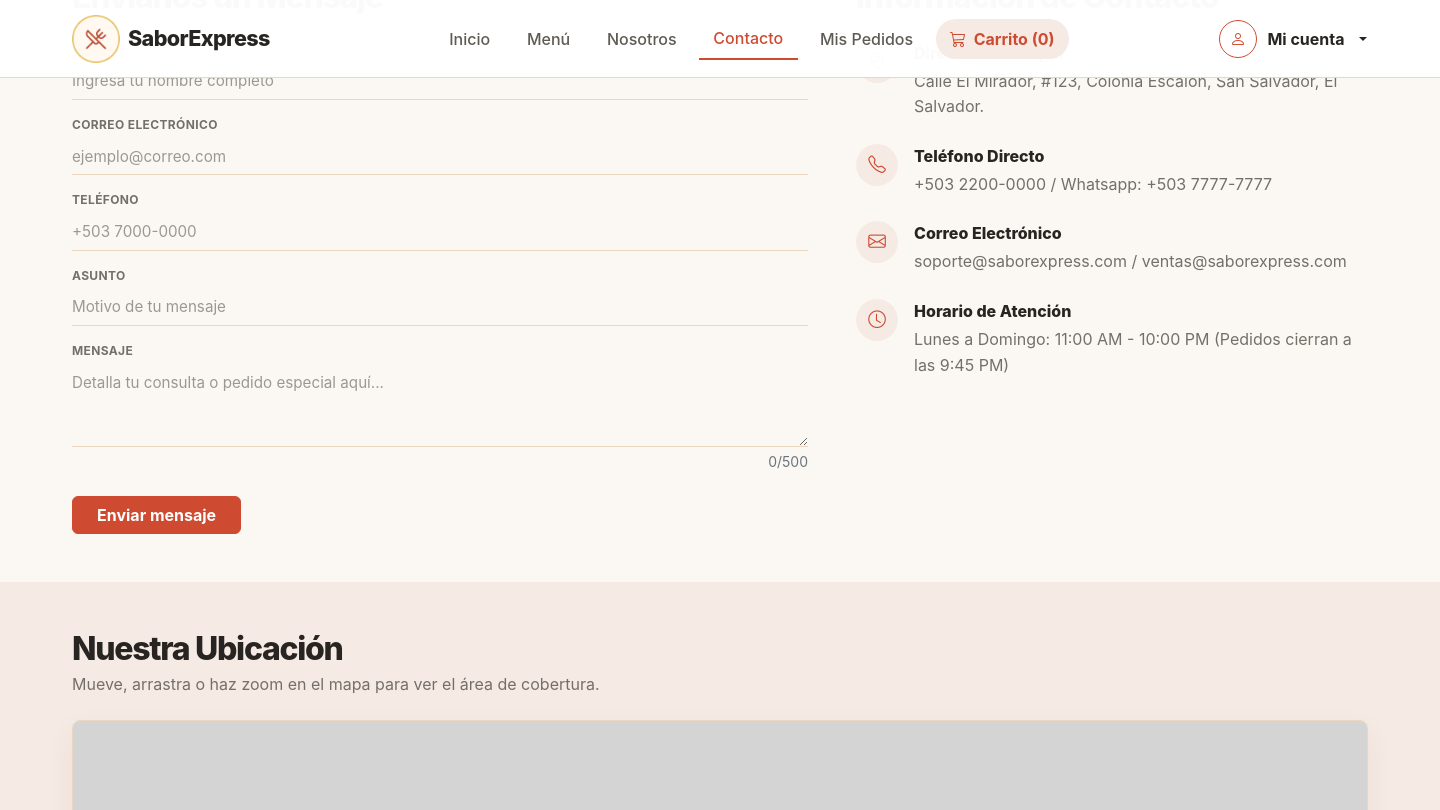
Contacto › cuenta los caracteres del mensaje hasta 500 y limita la longitud
(page scrolled)
expect the text "0/500" is shown: met, box [768,453,808,470]
In the text box labelled "Mensaje": point(440, 406) [72,366,808,447], type "Hola, quiero un pedido"
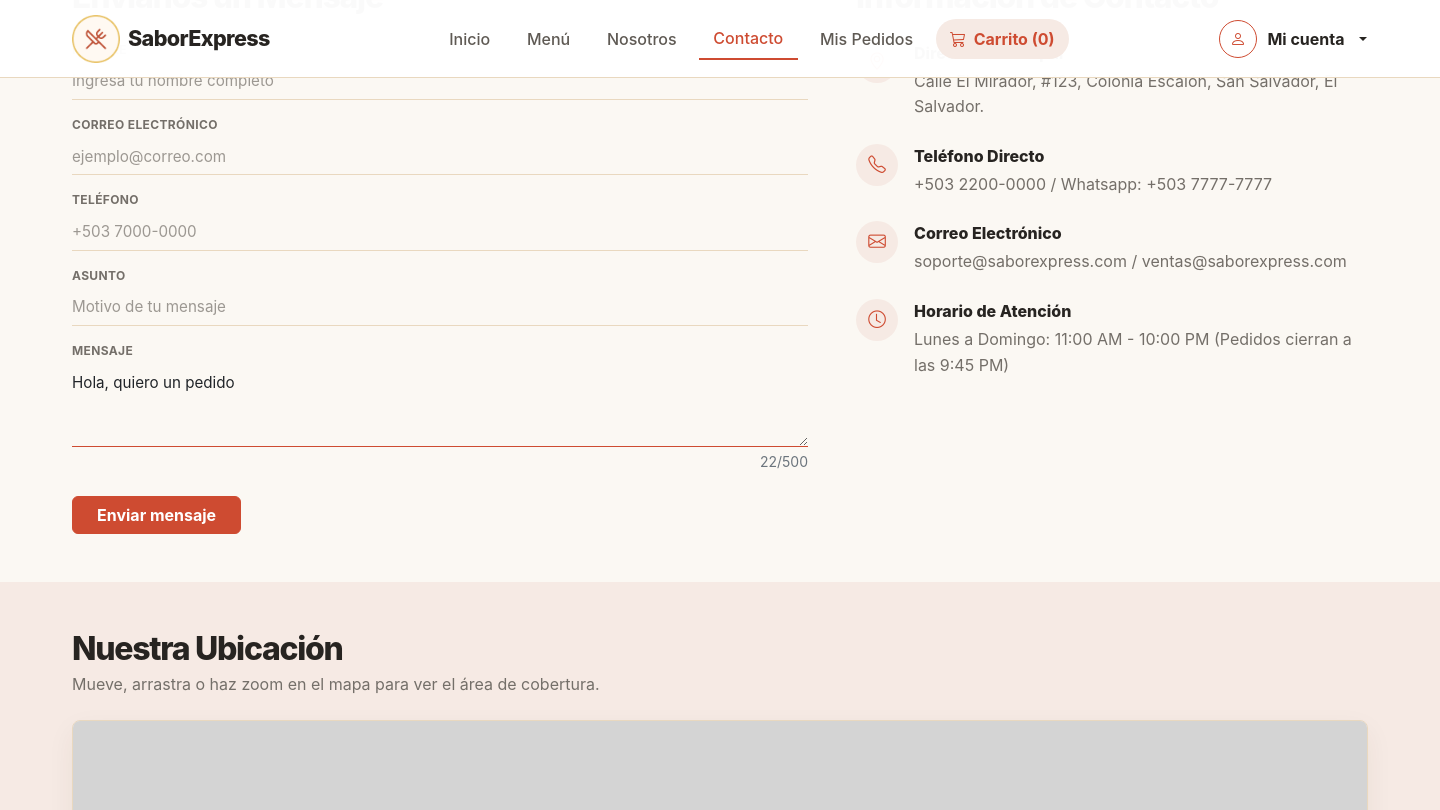
expect the text "22/500" is shown: met, box [760,453,808,470]
